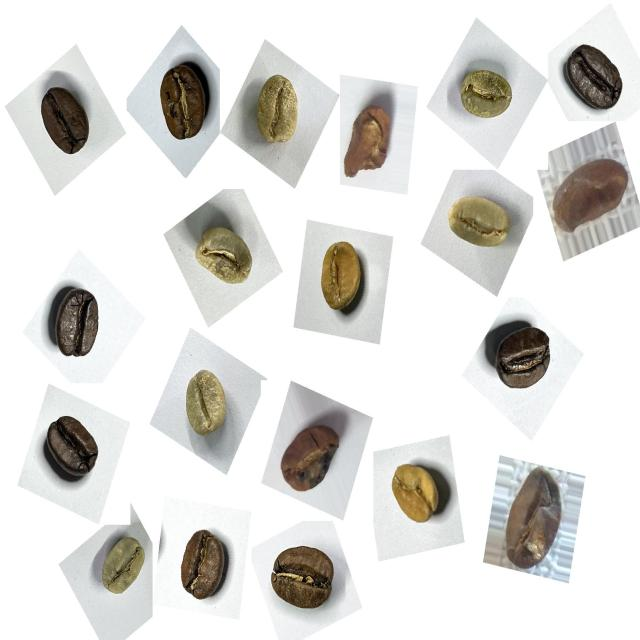bad: (491, 464, 573, 582), (545, 145, 634, 248), (276, 405, 354, 503), (339, 94, 402, 188)
dark: (484, 310, 561, 403), (42, 276, 114, 370), (558, 33, 633, 121), (39, 401, 112, 490)
green: (183, 213, 263, 303), (438, 182, 518, 264), (173, 358, 241, 448), (248, 67, 312, 158), (451, 59, 523, 134), (90, 528, 153, 608)
light: (308, 232, 378, 326), (382, 452, 454, 537)
medium: (147, 56, 219, 154), (264, 536, 345, 623), (170, 520, 238, 613), (30, 78, 99, 166)
